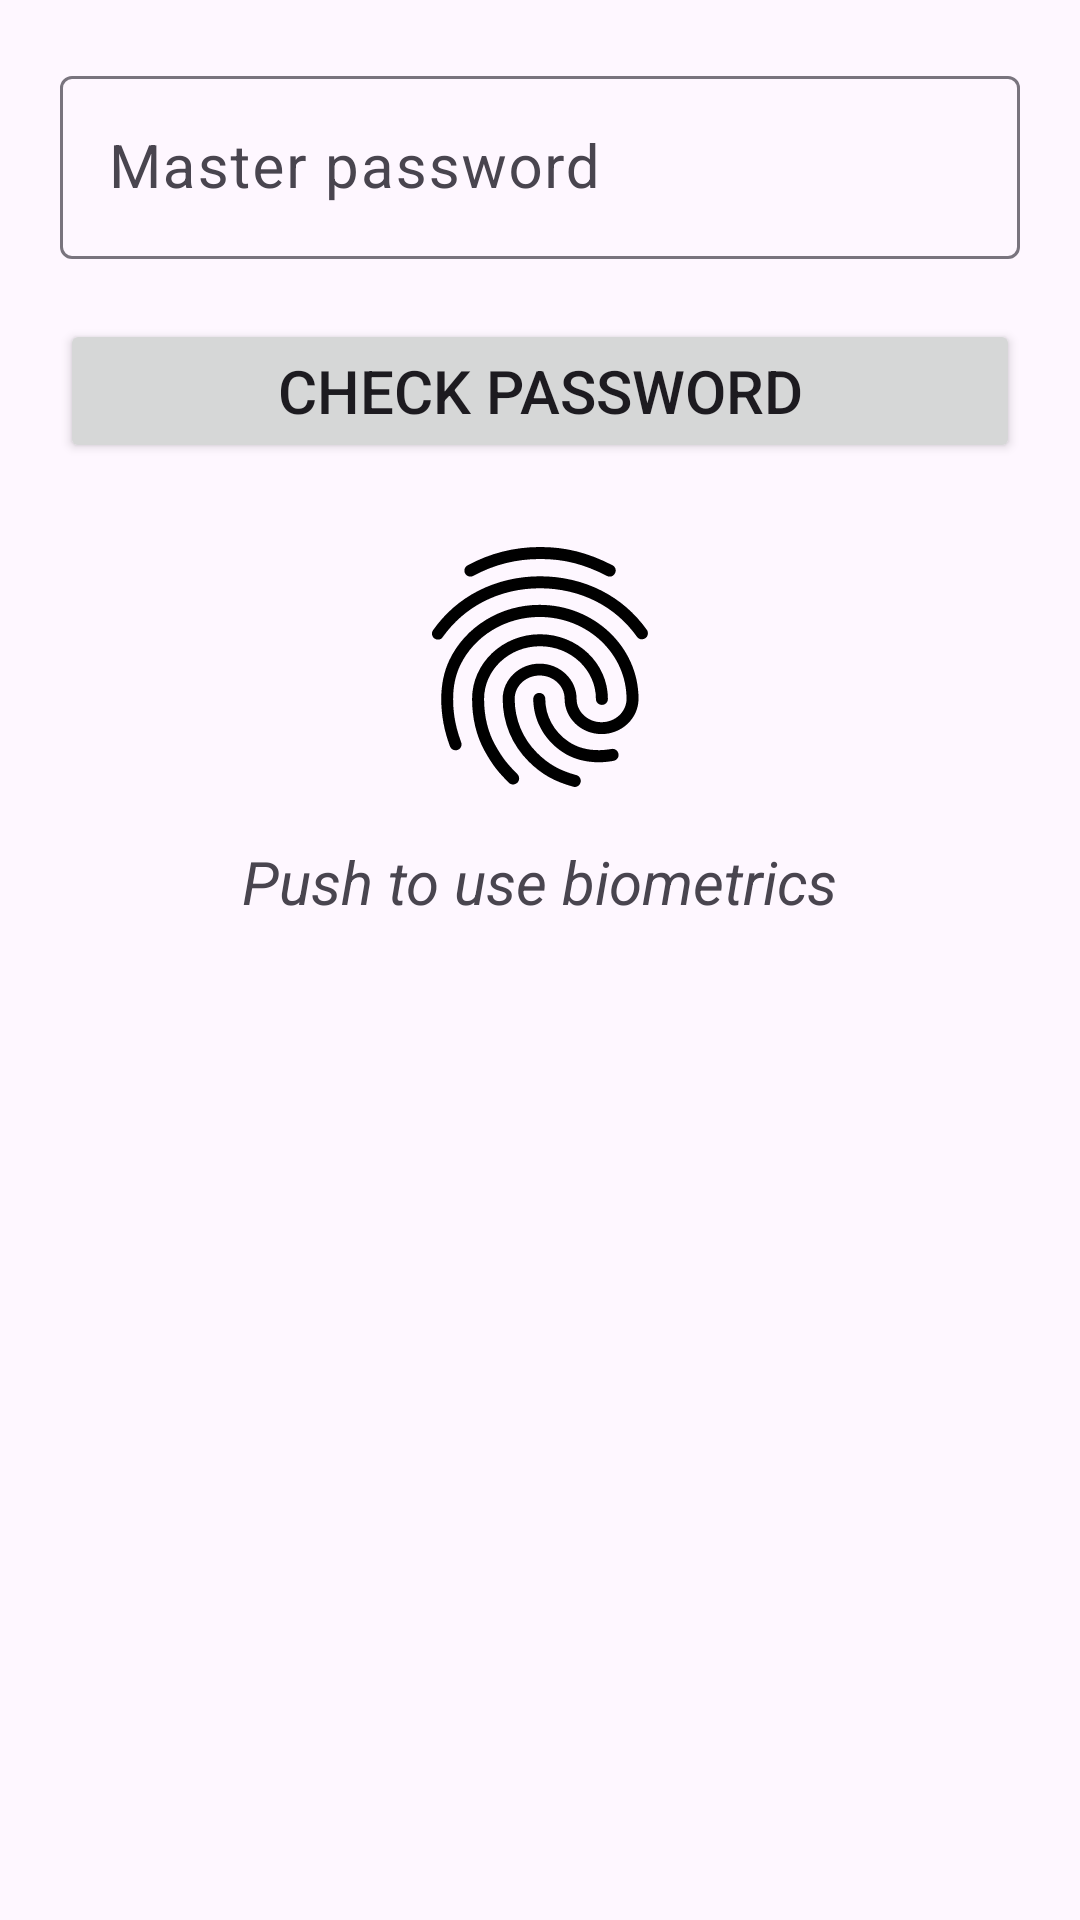

Point at icon controls on the screen. Image size 1080px x 1920px, points as (x,y).
fingerprint: (540,667)
